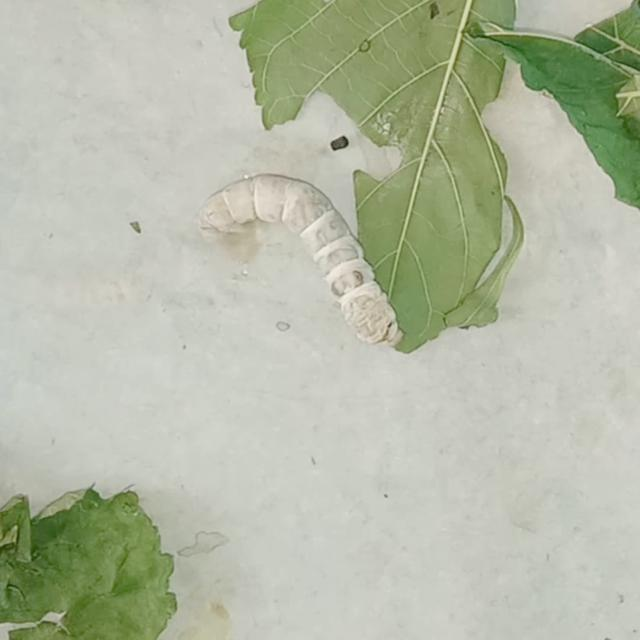Grasserie: (180, 140, 433, 390)
